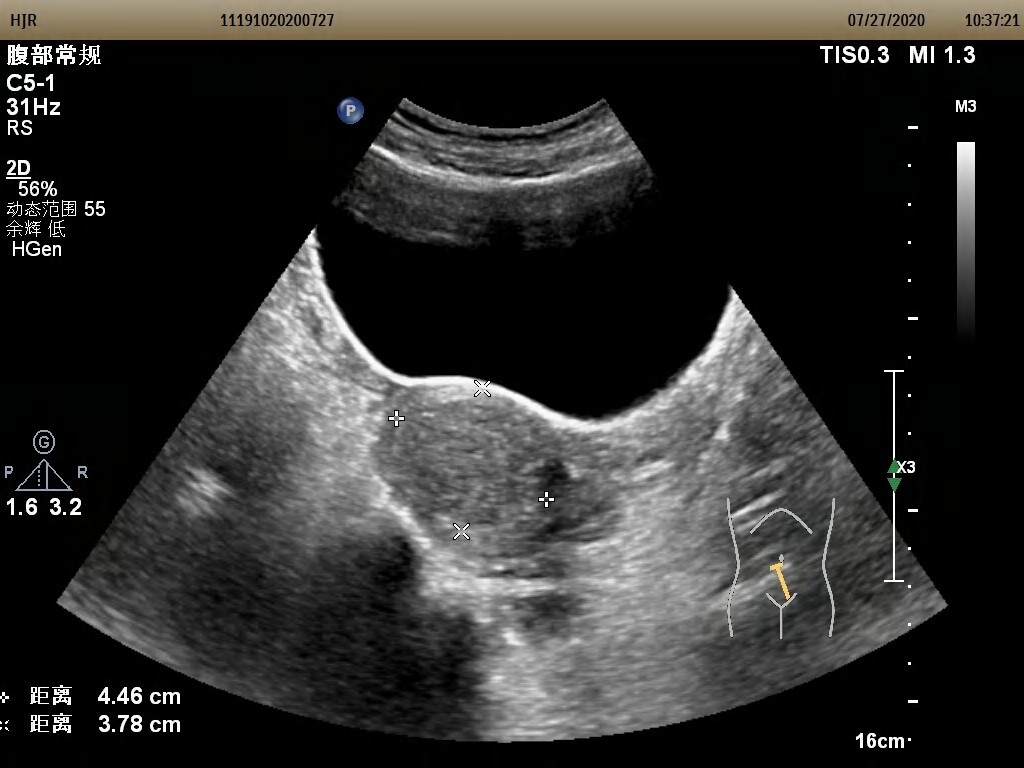肌瘤: (397, 388, 551, 534)
